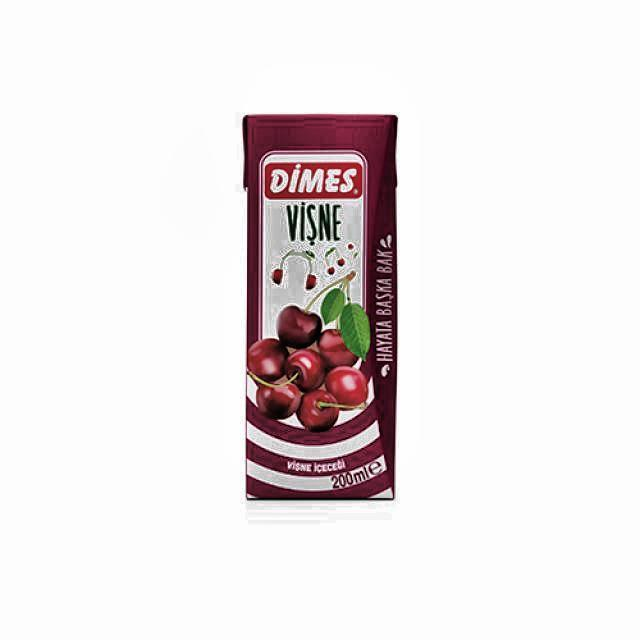cardboard: (242, 115, 398, 504)
